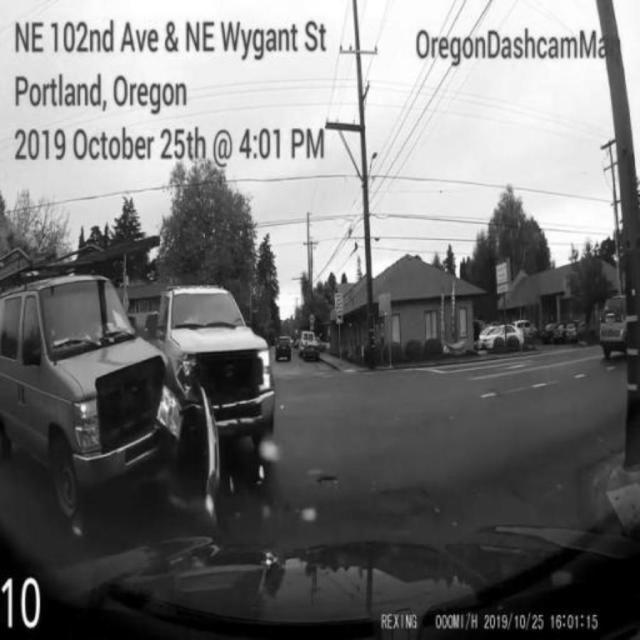accident: (0, 278, 273, 521)
vehicle: (598, 289, 640, 357), (477, 320, 531, 354), (298, 336, 326, 363), (270, 334, 295, 362)
